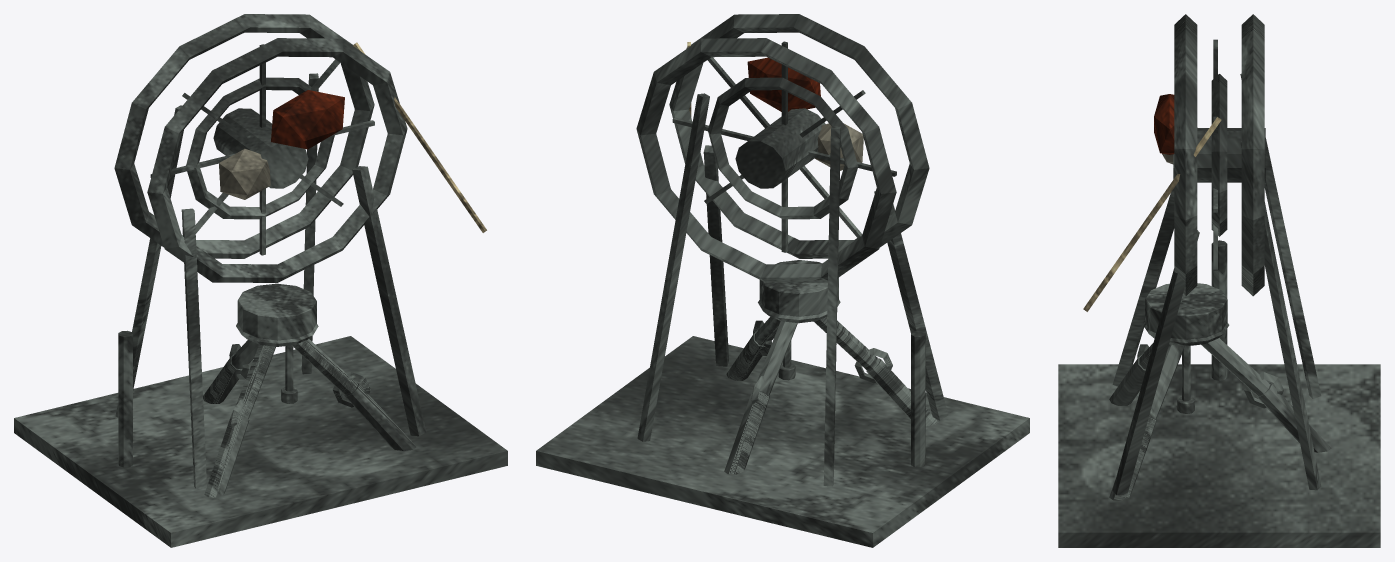
Rendered from north-debris-catcher.glb.
3 renders of one model, left to right at view 1: azimuth 30°, elevation 25°; view 2: azimuth 150°, elevation 25°; view 3: azimuth 270°, elevation 25°, orthographic. The views are drawn at different scales.
Parts seen in each view (by area): view 1: north-debris-catcher; view 2: north-debris-catcher; view 3: north-debris-catcher.
Boxes of the visible parts, left/top/right/bottom form: north-debris-catcher: left=14, top=14, right=507, bottom=547; north-debris-catcher: left=536, top=14, right=1029, bottom=547; north-debris-catcher: left=1058, top=14, right=1380, bottom=547.
Size of the model in its own units: 5.2 by 6.3 by 4.2.
1 material, 1 textured.
